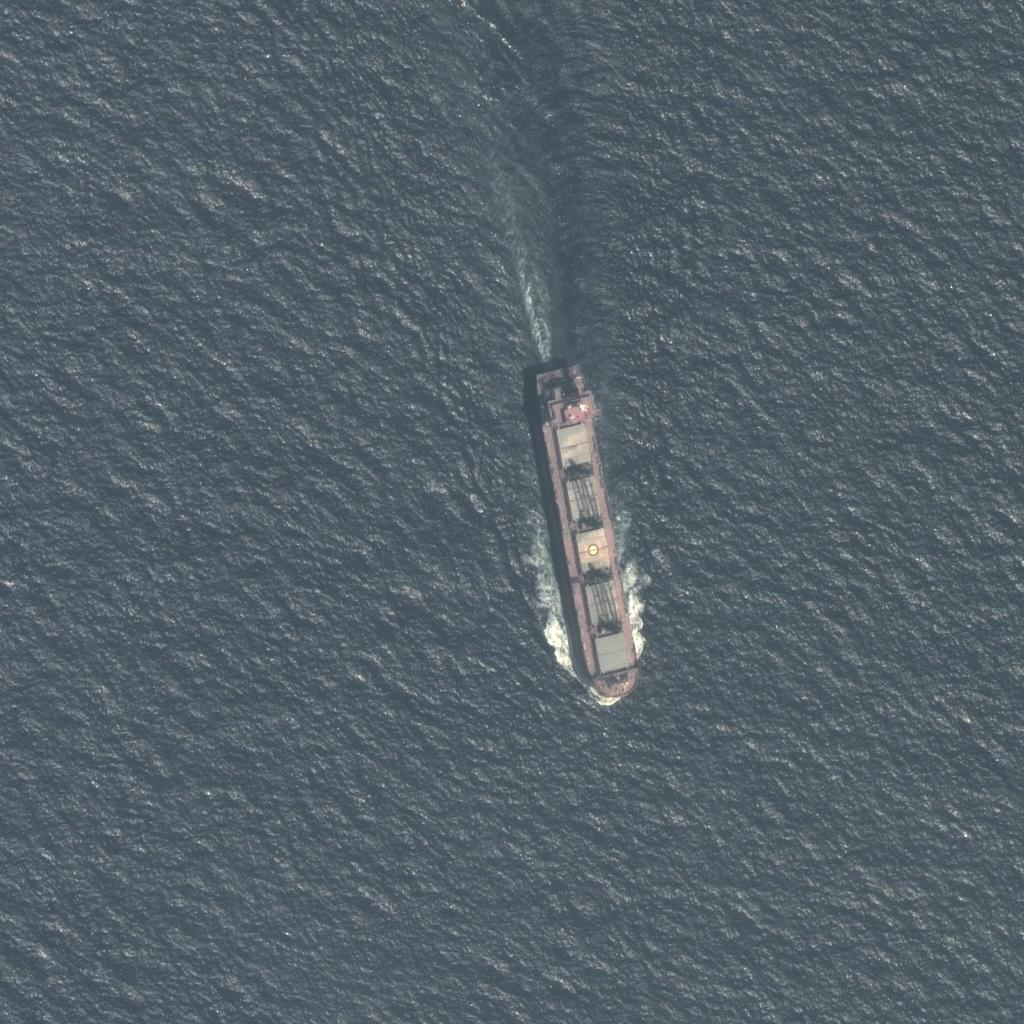ship: (534, 361, 642, 701)
